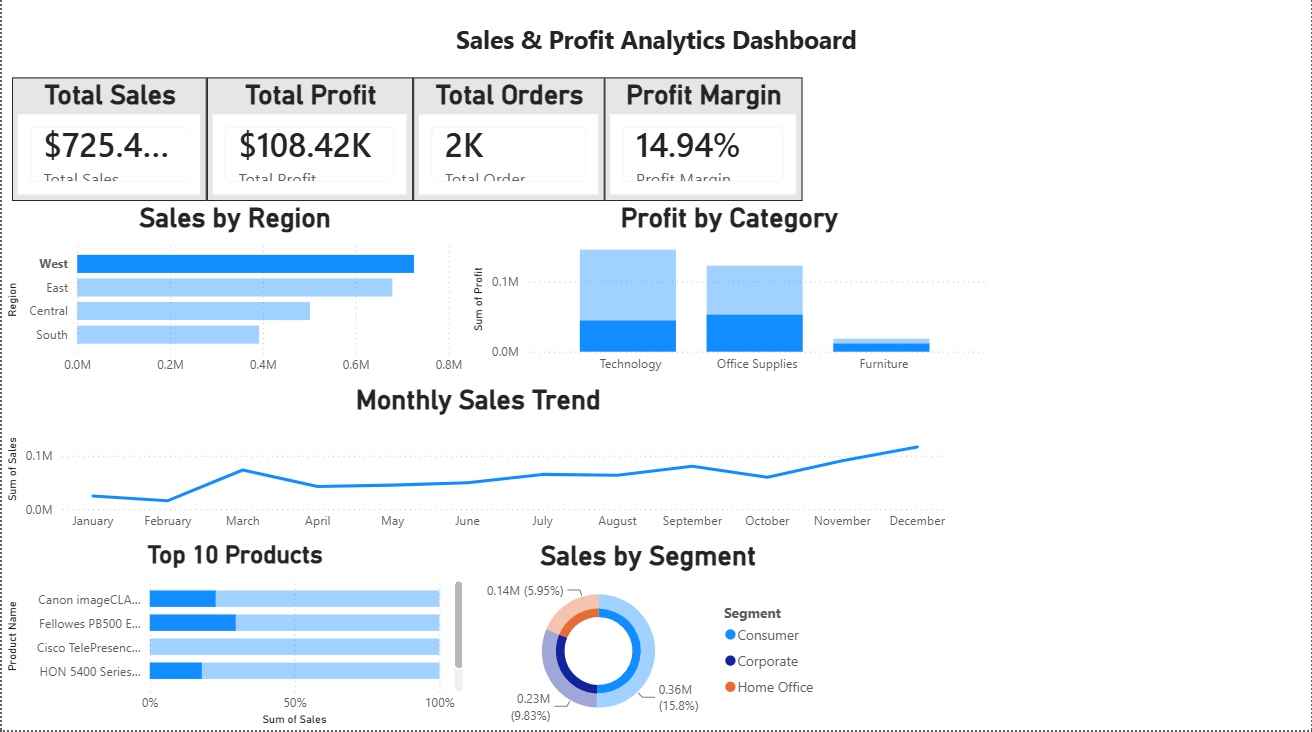

The dashboard page shown, as its layout file describes it:
{"tool":"powerbi","page":{"name":"Page 1","canvas":[1280,720],"ordinal":0},"visuals":[{"type":"cardVisual","title":"Total Sales","fields":{"Data":["Sample - Superstore.Total Sales"]},"box":[9.8,80.7,190.8,121.1],"z":0},{"type":"cardVisual","title":"Profit Margin","fields":{"Data":["Sample - Superstore.Profit Margin"]},"box":[589.4,80.7,193.2,121.1],"z":1000},{"type":"cardVisual","title":"Total Profit","fields":{"Data":["Sample - Superstore.Total Profit"]},"box":[200.5,80.7,201.8,121.1],"z":2000},{"type":"cardVisual","title":"Total Orders","fields":{"Data":["Sample - Superstore.Total Order"]},"box":[402.3,80.7,187.1,121.1],"z":3000},{"type":"clusteredBarChart","title":"Sales by Region","fields":{"Category":["Sample - Superstore.Region"],"Y":["Sum(Sample - Superstore.Sales)"]},"box":[0,201.8,456.1,178.5],"z":4000},{"type":"clusteredColumnChart","title":"Profit by Category","fields":{"Category":["Sample - Superstore.Category"],"Y":["Sum(Sample - Superstore.Profit)"]},"box":[456.1,201.8,511.1,177.3],"z":5000},{"type":"lineChart","title":"Monthly Sales Trend","fields":{"Y":["Sum(Sample - Superstore.Sales)"],"Category":["Sample - Superstore.Order Date.Variation.Date Hierarchy.Month"]},"box":[0,380.3,931.8,152.9],"z":6000},{"type":"hundredPercentStackedBarChart","title":"Top 10 Products","fields":{"Category":["Sample - Superstore.Product Name"],"Y":["Sum(Sample - Superstore.Sales)"]},"box":[0,533.2,302,187.1],"z":7000},{"type":"donutChart","title":"Sales by Segment","fields":{"Category":["Sample - Superstore.Segment"],"Y":["Sum(Sample - Superstore.Sales)"]},"box":[302,533.2,352.2,187.1],"z":8000},{"type":"textbox","box":[0,22,1280.3,48.9],"z":9000}]}

Visuals, with their boxes in screenshot pixels (x1, y1, x2, y2), scaled from the page's 1280x720 canvas onto the 1312x732 screenshot:
"Total Sales" cardVisual: rect(10, 82, 206, 205)
"Profit Margin" cardVisual: rect(604, 82, 802, 205)
"Total Profit" cardVisual: rect(206, 82, 412, 205)
"Total Orders" cardVisual: rect(412, 82, 604, 205)
"Sales by Region" clusteredBarChart: rect(0, 205, 468, 387)
"Profit by Category" clusteredColumnChart: rect(468, 205, 991, 385)
"Monthly Sales Trend" lineChart: rect(0, 387, 955, 542)
"Top 10 Products" hundredPercentStackedBarChart: rect(0, 542, 310, 731)
"Sales by Segment" donutChart: rect(310, 542, 671, 731)
textbox: rect(0, 22, 1311, 72)
